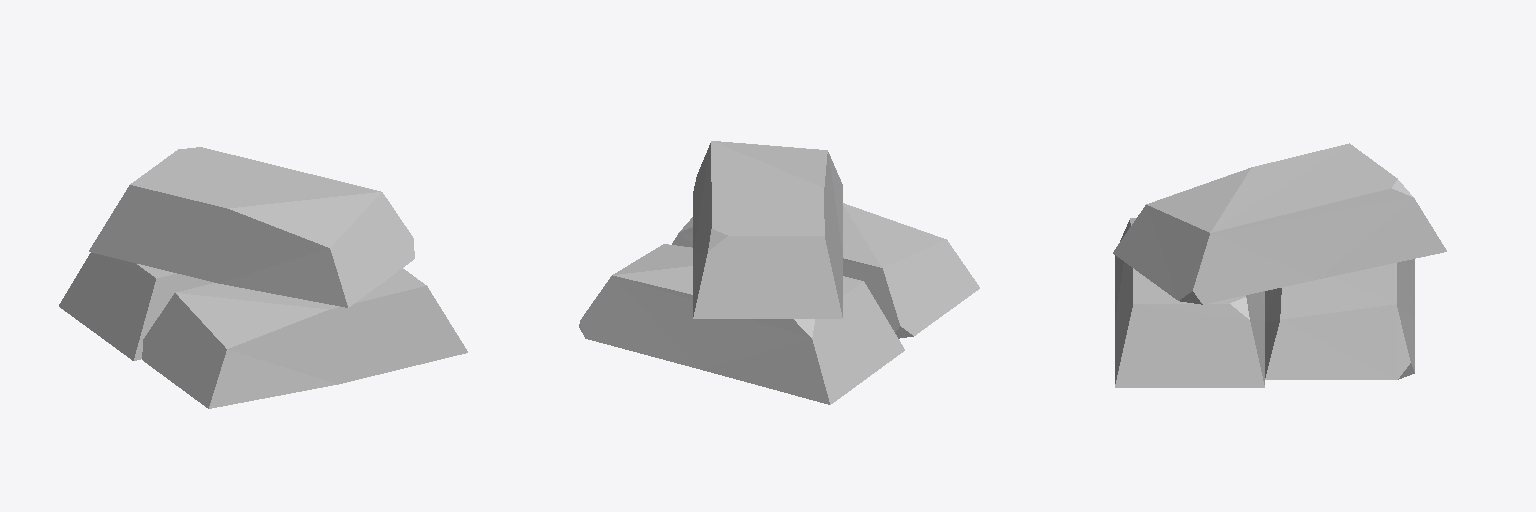
File: Gold-06.obj
3 views of the same model, side by side, from view 1: azimuth 30°, elevation 25°; view 2: azimuth 150°, elevation 25°; view 3: azimuth 270°, elevation 25° (orthographic).
Visible parts, largest first — view 1: Gold_06; view 2: Gold_06; view 3: Gold_06.
Part boxes in pixels (bbox=[...]): Gold_06: bbox=[59, 147, 467, 408]; Gold_06: bbox=[579, 141, 979, 404]; Gold_06: bbox=[1113, 143, 1446, 387].
Bounding box in the file's own units: 0.15 × 0.075 × 0.1674.